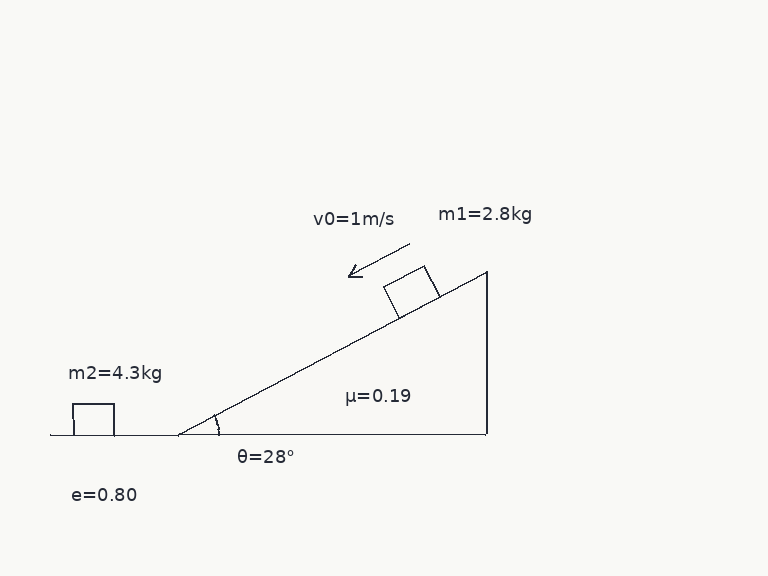block: (381, 263, 442, 319), (70, 401, 116, 436)
ramp: (177, 269, 487, 436)
